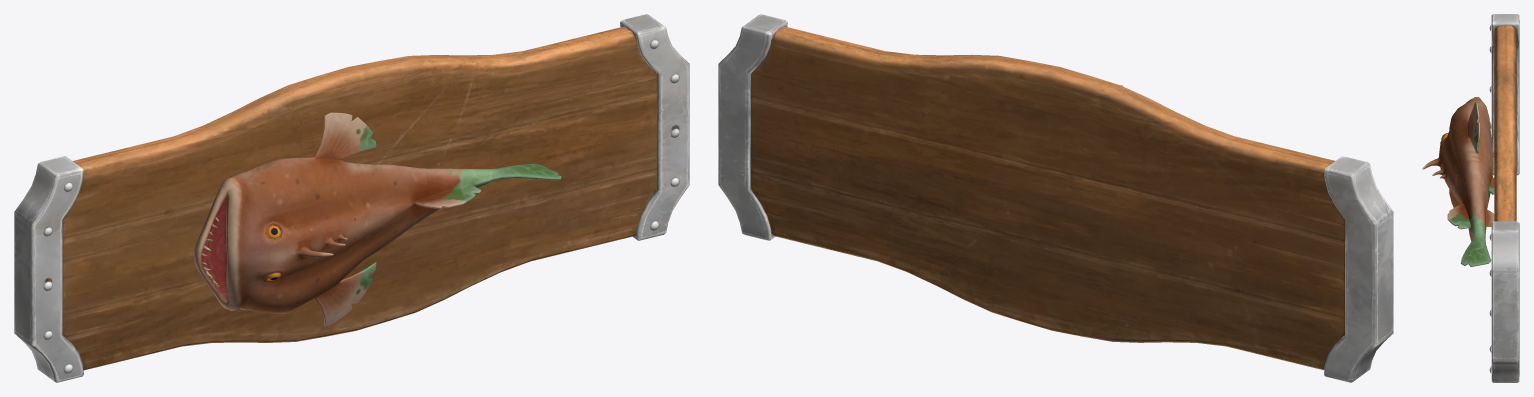
3 views of the same model, side by side, from view 1: azimuth 30°, elevation 25°; view 2: azimuth 150°, elevation 25°; view 3: azimuth 270°, elevation 25° (orthographic). The views are drawn at different scales.
Visible parts, largest first — view 1: SM_Trophy_Plaque_MonkFish_01_LOD0; view 2: SM_Trophy_Plaque_MonkFish_01_LOD0; view 3: SM_Trophy_Plaque_MonkFish_01_LOD0.
Part boxes in pixels (x1=…): SM_Trophy_Plaque_MonkFish_01_LOD0: x1=14, y1=14, x2=689, y2=382; SM_Trophy_Plaque_MonkFish_01_LOD0: x1=718, y1=14, x2=1393, y2=382; SM_Trophy_Plaque_MonkFish_01_LOD0: x1=1422, y1=14, x2=1519, y2=382.
Size of the model in its own units: 1.48 by 0.5529 by 0.2577.
2 materials, 2 textured.
